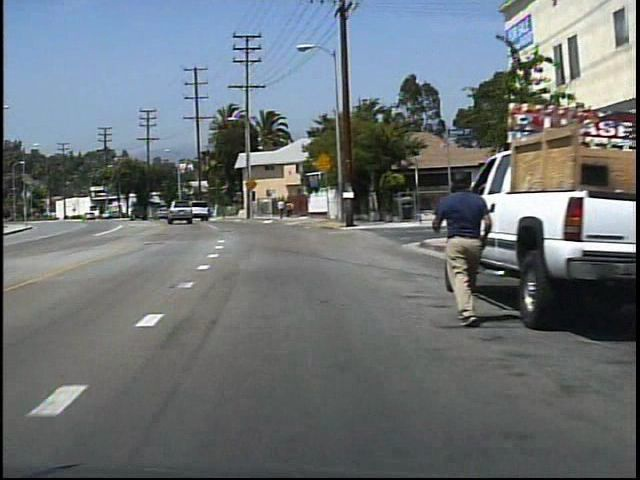person: (426, 166, 488, 327), (275, 196, 286, 220), (284, 198, 294, 219)
